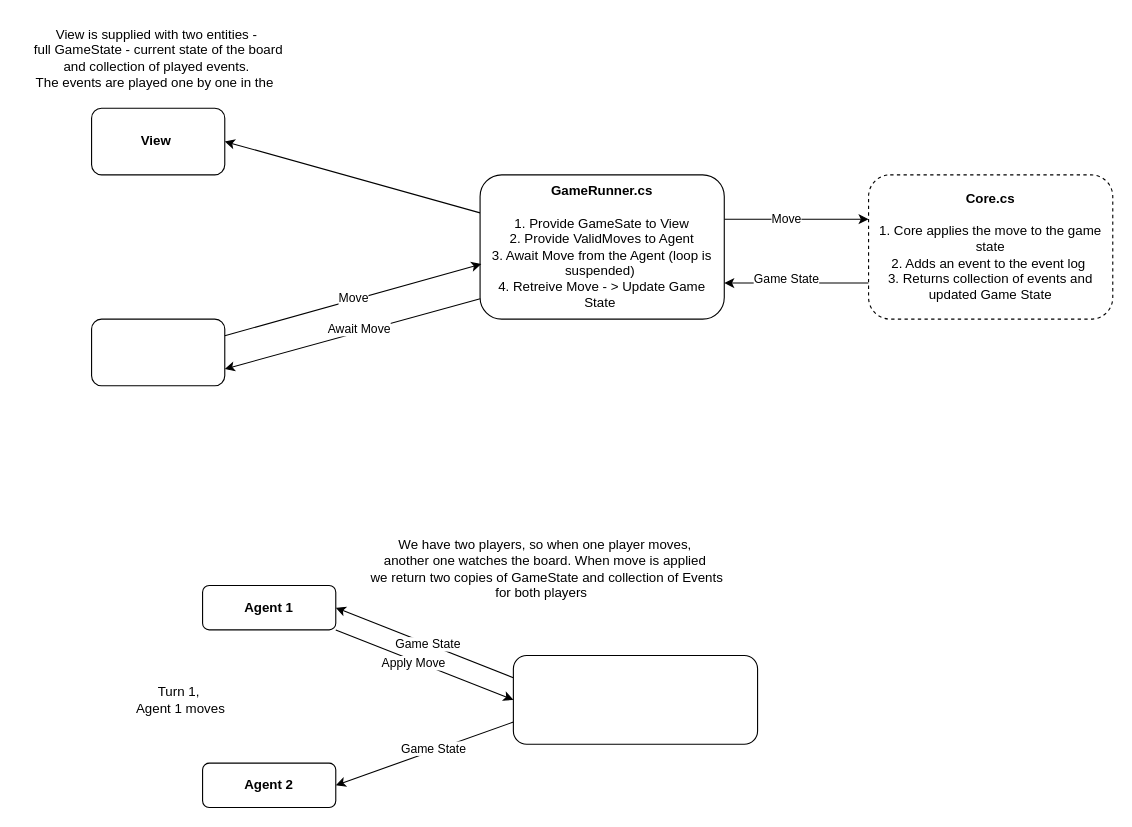
This 1132x827 diagram has some shape labels left out. The shapes that lost their labels are listed below. From the top down, each one's centre as x and y in pixels, then its label:
At pixel 157 352: "Agent".
At pixel 635 699: "GameRunner.cs".
